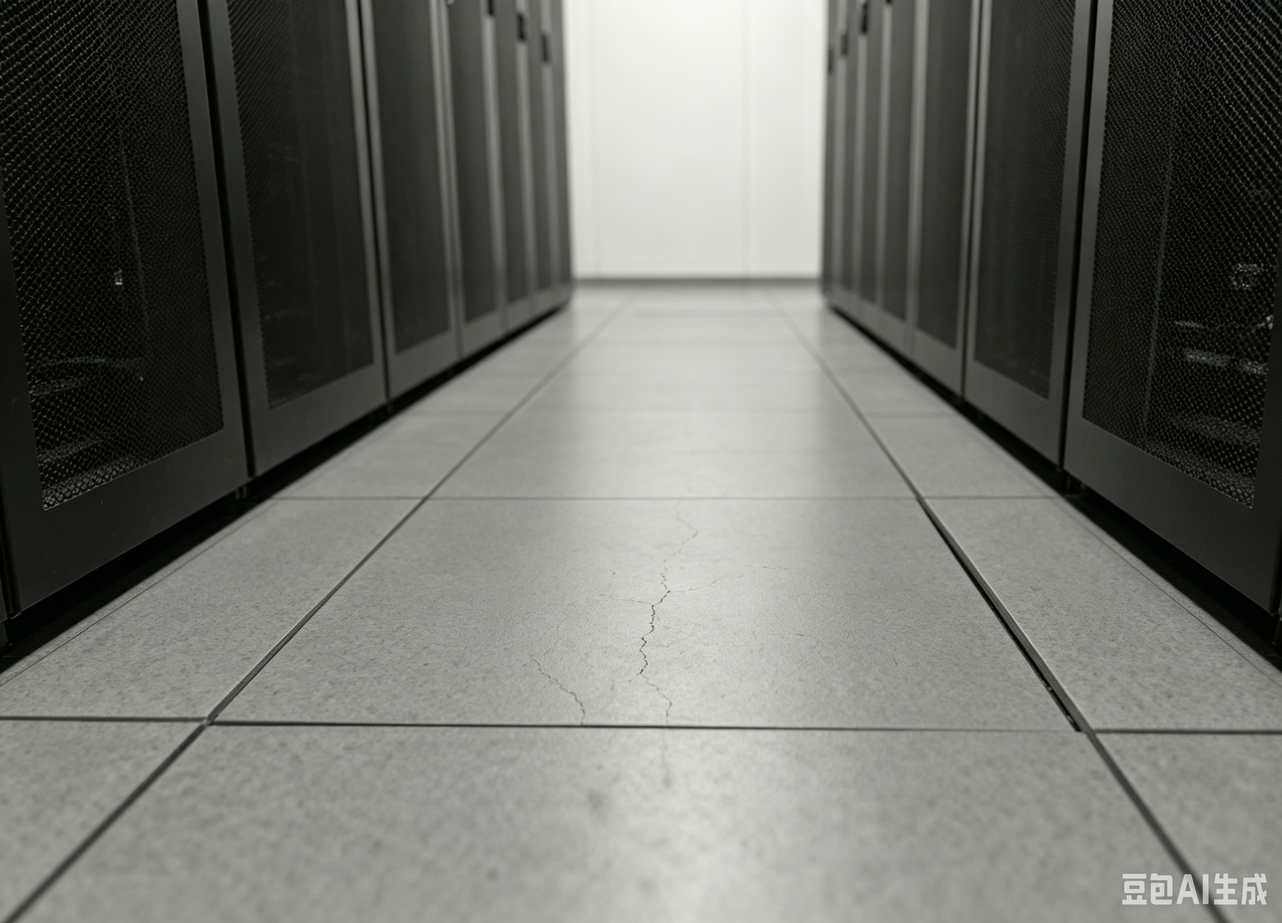floor_defect: (630, 488, 727, 742), (970, 577, 1058, 684), (517, 655, 595, 739), (909, 503, 983, 587), (1032, 691, 1117, 751)
